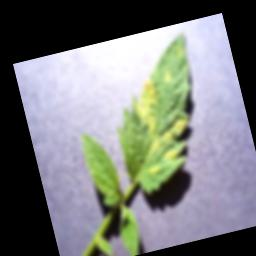Leaf_Mold: (125, 69, 197, 166), (147, 163, 162, 175)
